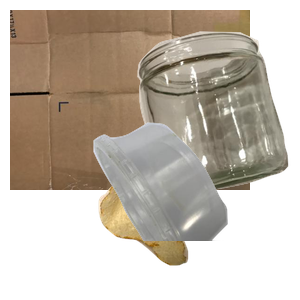cardboard: (10, 10, 250, 190)
glass: (135, 29, 300, 209)
plastic: (91, 120, 300, 300)
trash: (96, 181, 277, 300)
